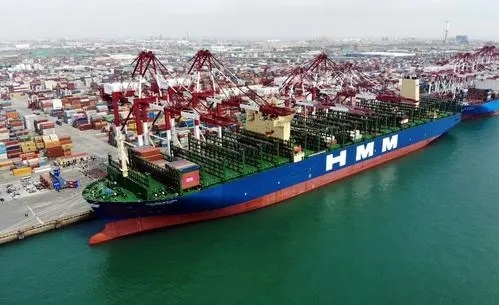Cargoship: (79, 78, 465, 239)
